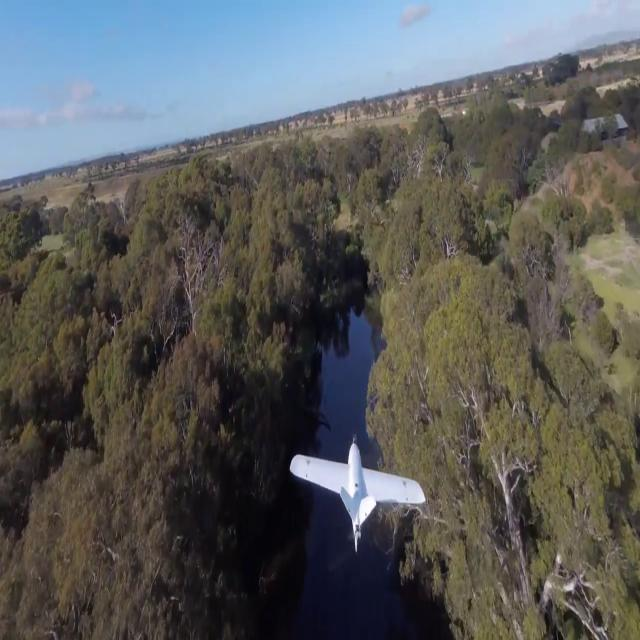iha: (289, 467, 429, 509)
